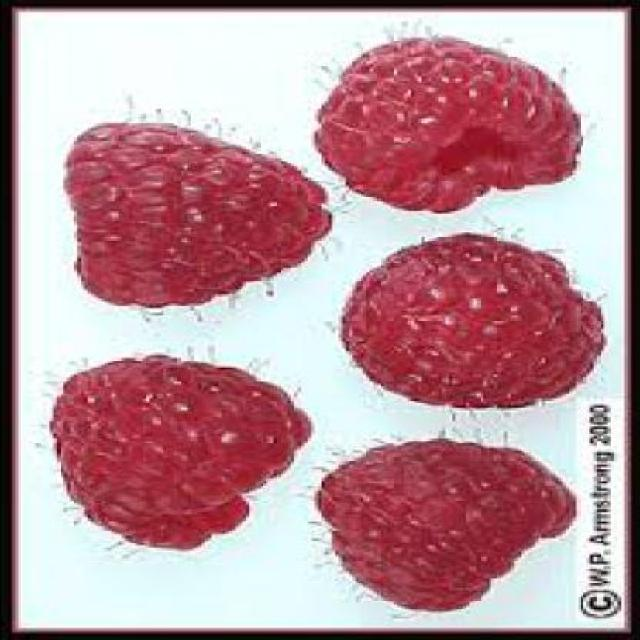BIODEGRADABLE: (51, 355, 311, 549), (65, 124, 331, 305), (315, 38, 581, 212), (342, 234, 604, 408), (318, 440, 576, 611)
